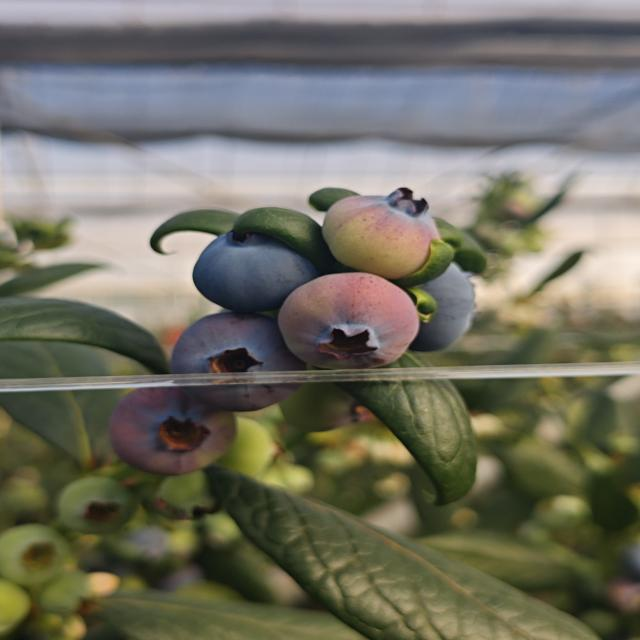ripe: (163, 308, 314, 418), (188, 225, 314, 318), (396, 262, 494, 356)
